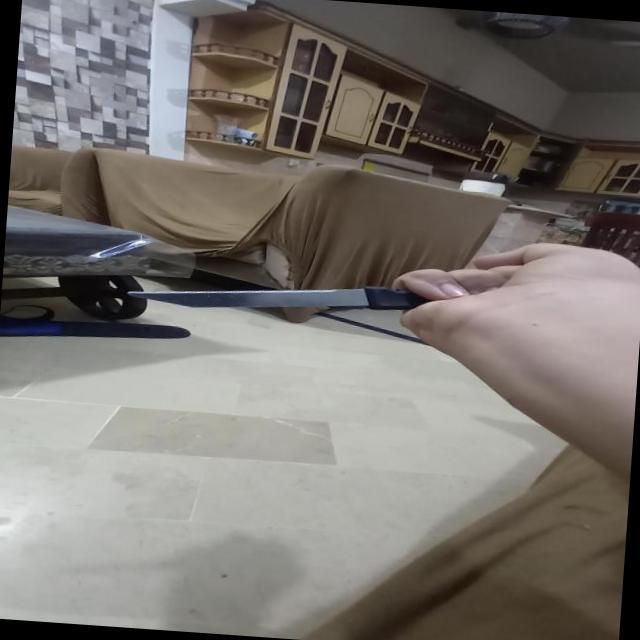Knife: (130, 248, 510, 335)
